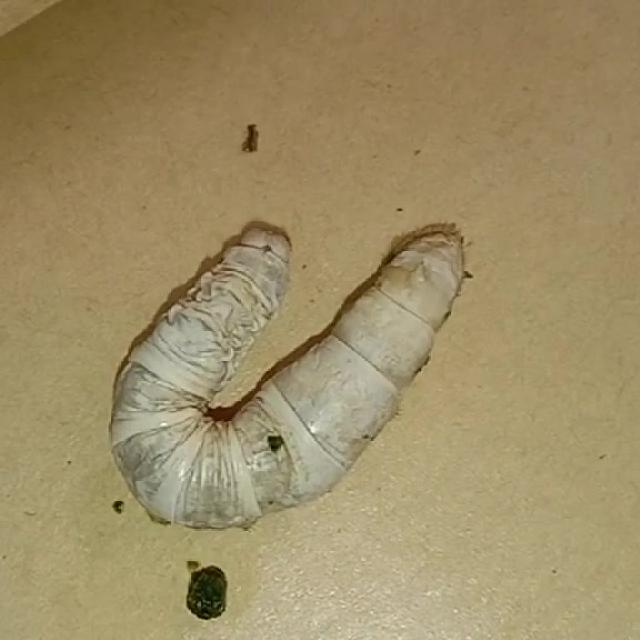Grasserie: (100, 204, 473, 574)
